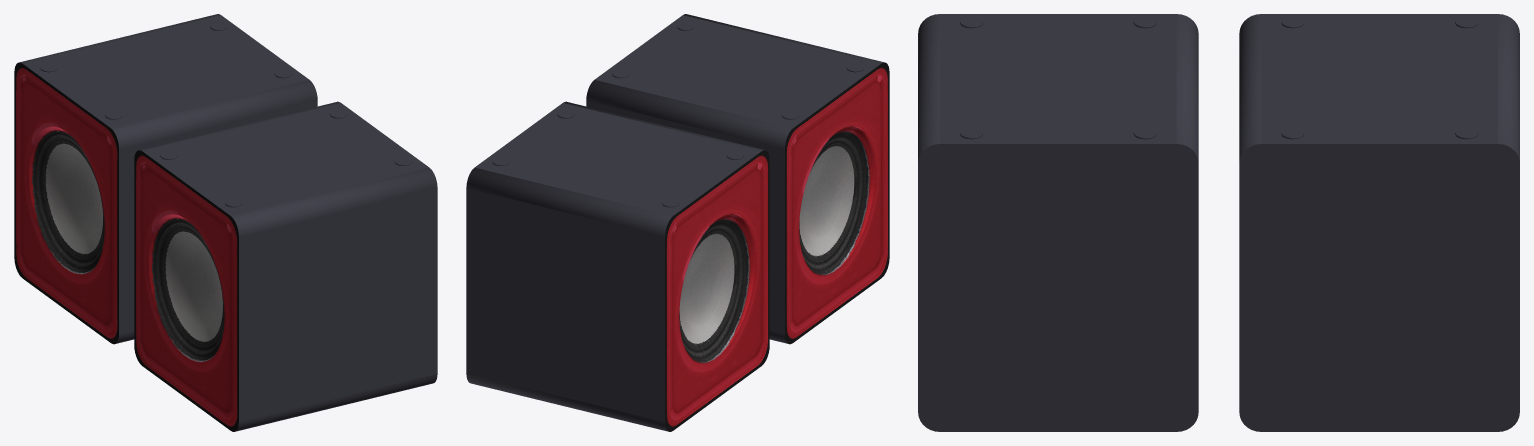
File: D906E189-92E2-4FDA-845F-1366EBE1F420.dae
The picture shows the model from 3 angles, left to right: view 1: azimuth 30°, elevation 25°; view 2: azimuth 150°, elevation 25°; view 3: azimuth 270°, elevation 25°; orthographic projection. The views are drawn at different scales.
Parts seen in each view (by area): view 1: Acoustic_2-0_red; view 2: Acoustic_2-0_red; view 3: Acoustic_2-0_red.
Part boxes in pixels (<box>): Acoustic_2-0_red: <box>14,14,437,431</box>; Acoustic_2-0_red: <box>466,14,889,431</box>; Acoustic_2-0_red: <box>918,14,1519,431</box>.
Bounding box in the file's own units: 0.0595 × 0.0619 × 0.1165.
Materials: 2 (2 with a texture image).
